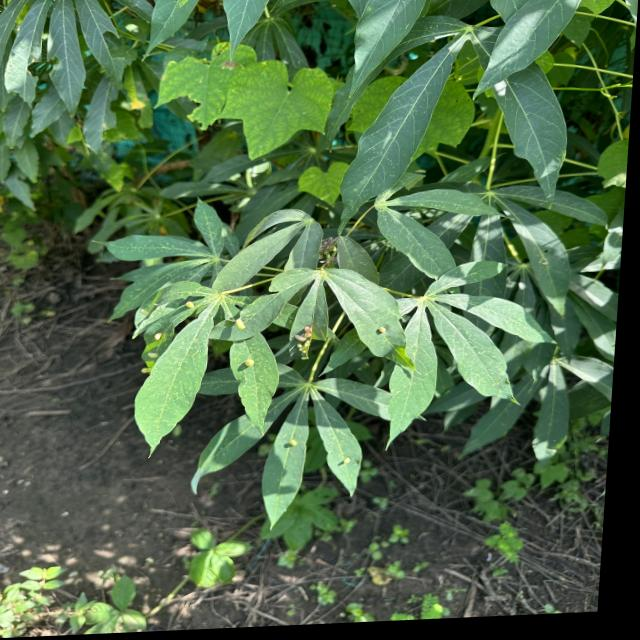Maleza: (160, 42, 335, 146), (293, 158, 341, 209)
Mosca: (294, 322, 315, 367), (136, 352, 160, 379), (181, 295, 206, 319), (230, 310, 252, 337), (371, 318, 392, 340), (148, 327, 169, 345), (240, 356, 260, 373), (339, 454, 353, 471), (285, 434, 302, 448)
